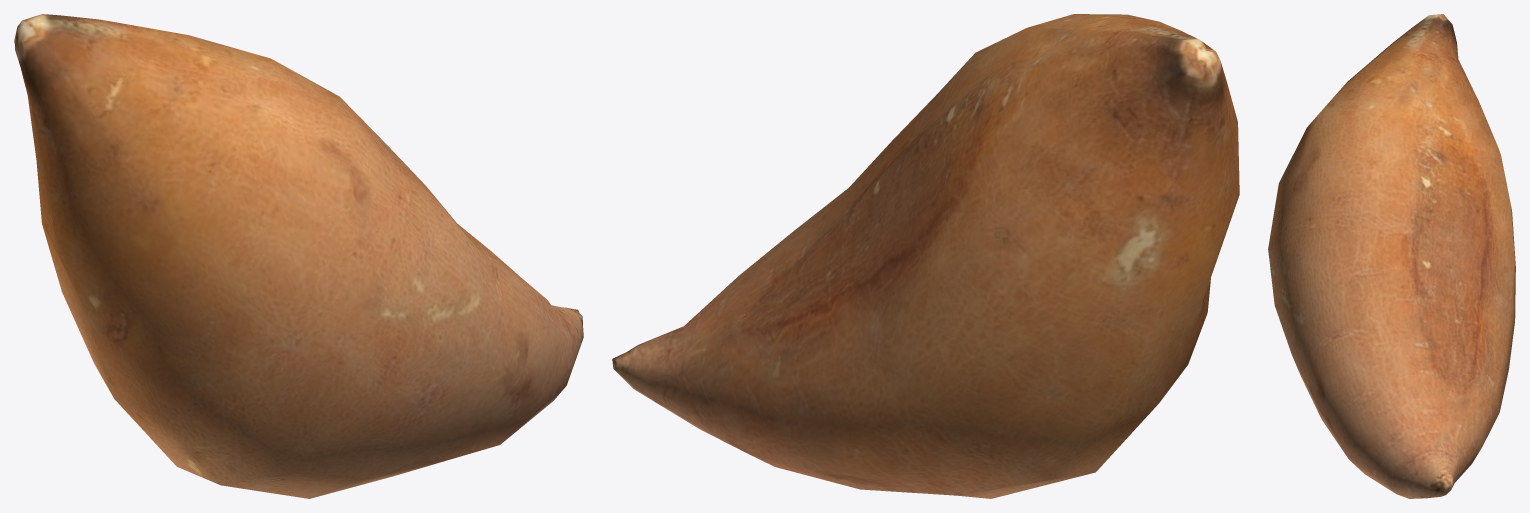
File: A3_Sweet_Potato_low.fbx
The picture shows the model from 3 angles, left to right: view 1: azimuth 30°, elevation 25°; view 2: azimuth 150°, elevation 25°; view 3: azimuth 270°, elevation 25°; orthographic projection. The views are drawn at different scales.
Visible parts, largest first — view 1: A3_Sweet_Potato_low; view 2: A3_Sweet_Potato_low; view 3: A3_Sweet_Potato_low.
Boxes of the visible parts, x1,y1,x2,y2 form: A3_Sweet_Potato_low: (14, 14, 583, 498); A3_Sweet_Potato_low: (612, 14, 1239, 498); A3_Sweet_Potato_low: (1268, 14, 1515, 498).
Bounding box in the file's own units: 8.83 × 4.96 × 7.61.
Materials: 1 (1 with a texture image).
